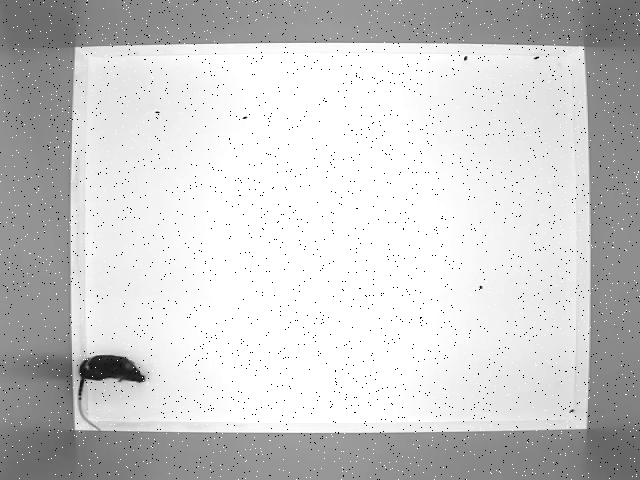Tikus: (74, 351, 160, 434)
